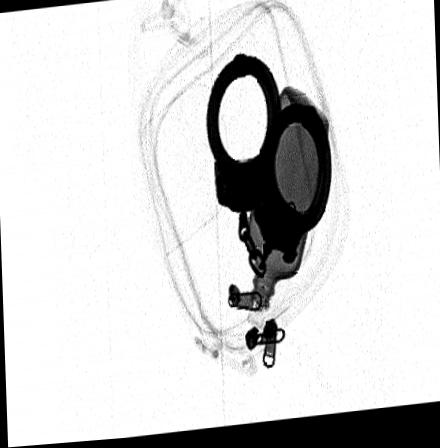HandCuffs: (205, 55, 331, 282)
